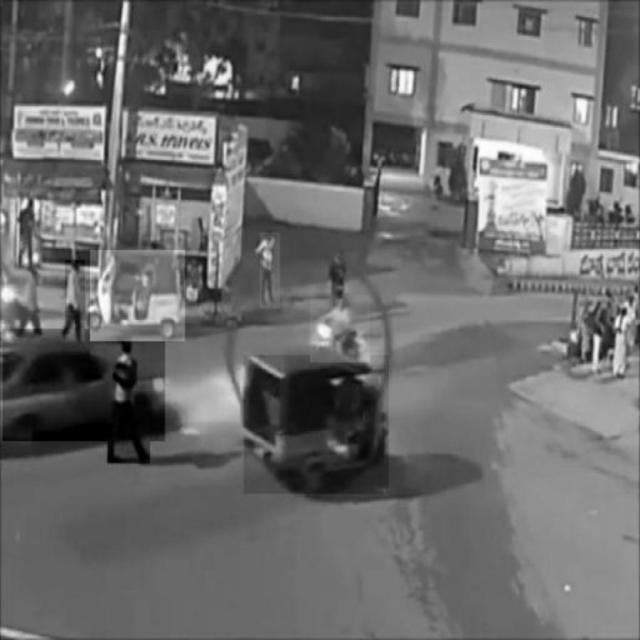vehicle: (244, 355, 388, 493), (4, 328, 166, 440), (89, 251, 185, 342), (107, 341, 151, 463), (310, 295, 371, 362), (66, 261, 86, 342), (260, 233, 280, 309)
